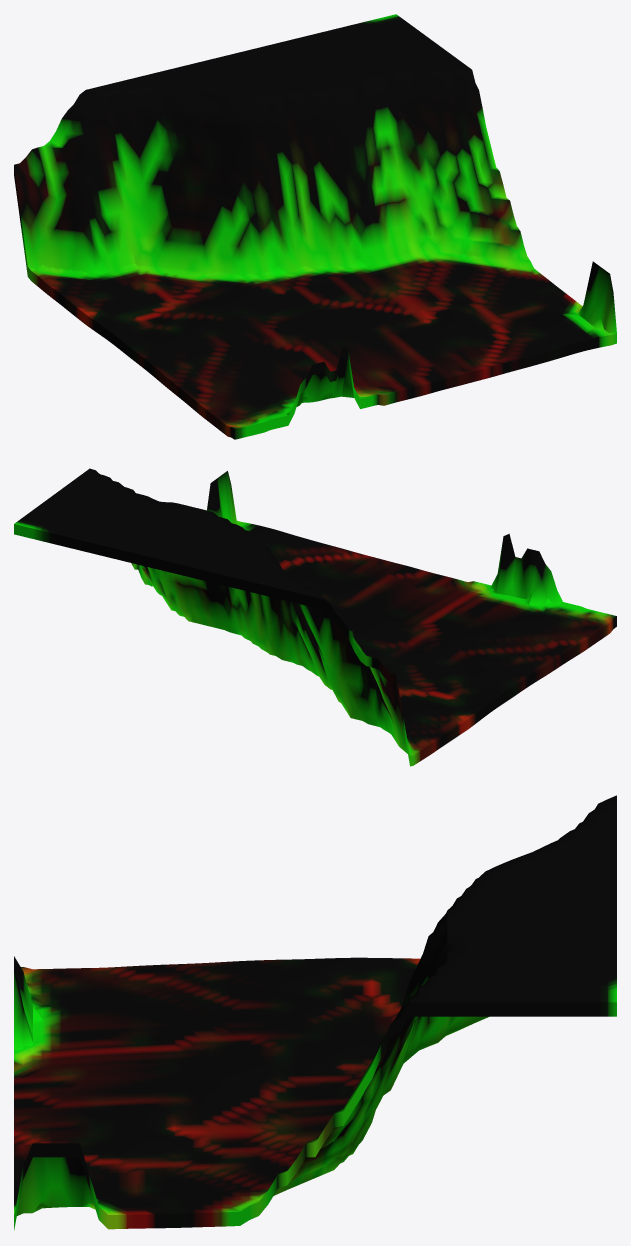
The model's file is Terrain_01_02.fbx.
The picture shows the model from 3 angles, top to bottom: view 1: azimuth 30°, elevation 25°; view 2: azimuth 150°, elevation 25°; view 3: azimuth 270°, elevation 25°; orthographic projection. The views are drawn at different scales.
Parts seen in each view (by area): view 1: Terrain_01_02_LOD0; view 2: Terrain_01_02_LOD0; view 3: Terrain_01_02_LOD0.
Part boxes in pixels (<box>): Terrain_01_02_LOD0: <box>14,14,616,439</box>; Terrain_01_02_LOD0: <box>14,468,616,766</box>; Terrain_01_02_LOD0: <box>14,795,616,1230</box>.
Size of what is drawn, in the model's own units: 384 by 166 by 384.
